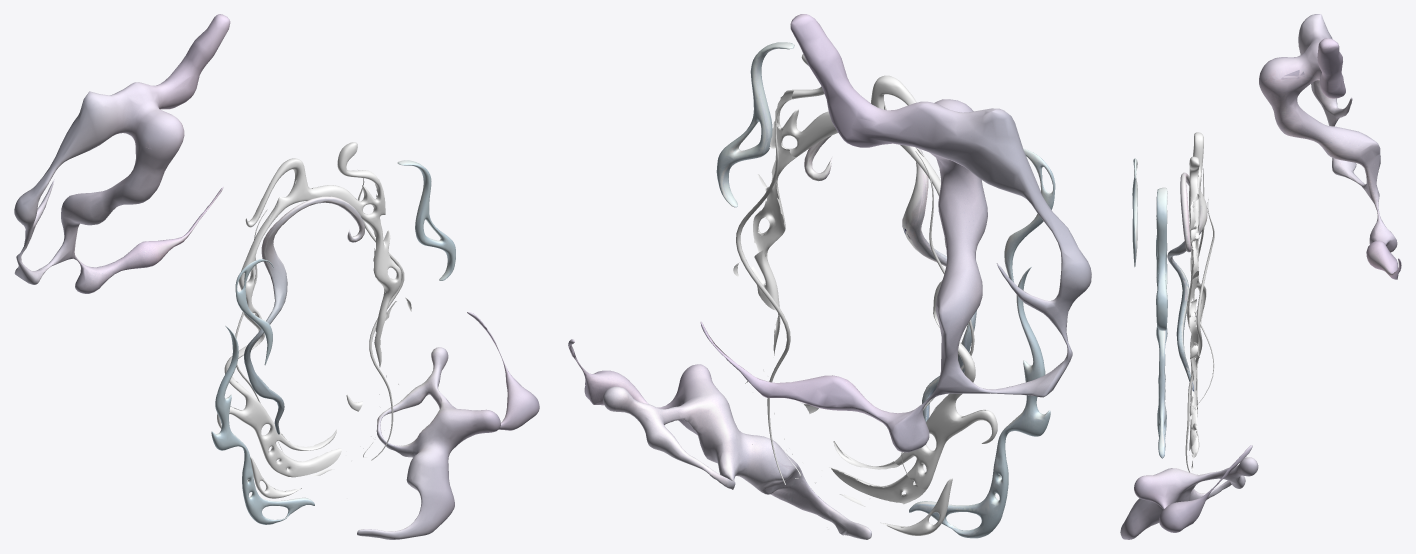
Rendered from 1119mirrorv3.fbx.
The picture shows the model from 3 angles, left to right: view 1: azimuth 30°, elevation 25°; view 2: azimuth 150°, elevation 25°; view 3: azimuth 270°, elevation 25°; orthographic projection. The views are drawn at different scales.
Visible parts, largest first — view 1: 融球.028, Mesh.002, 融球.030, Mesh.003, Mesh.005, 贝塞尔曲线.015; view 2: 融球.028, 融球.030, Mesh.002, Mesh.003, Mesh.005, 贝塞尔曲线.015; view 3: 融球.028, 融球.030, Mesh.002, Mesh.003, Mesh.005, 贝塞尔曲线.015.
Part boxes in pixels (<box>): 融球.028: <box>14,14,230,293</box>; Mesh.002: <box>217,142,411,498</box>; 融球.030: <box>357,312,539,539</box>; Mesh.003: <box>211,160,455,524</box>; Mesh.005: <box>244,196,365,434</box>; 贝塞尔曲线.015: <box>235,170,404,460</box>; 融球.028: <box>700,14,1091,452</box>; 融球.030: <box>568,339,871,539</box>; Mesh.002: <box>733,54,997,535</box>; Mesh.003: <box>716,42,1055,538</box>; Mesh.005: <box>804,135,976,421</box>; 贝塞尔曲线.015: <box>736,102,974,484</box>; 融球.028: <box>1259,14,1401,279</box>; 融球.030: <box>1120,445,1258,539</box>; Mesh.002: <box>1186,132,1206,488</box>; Mesh.003: <box>1132,158,1167,458</box>; Mesh.005: <box>1167,172,1207,391</box>; 贝塞尔曲线.015: <box>1185,168,1214,472</box>.
Size of the model in its own units: 495 by 499 by 280.
